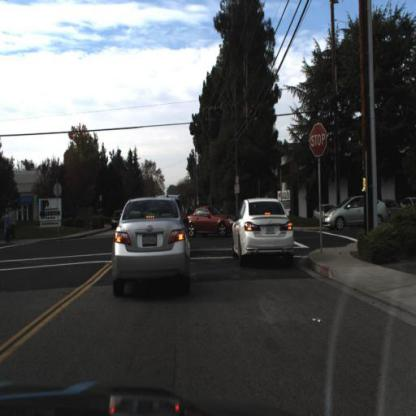car: (112, 197, 194, 297), (232, 196, 296, 272), (323, 197, 393, 232), (186, 202, 237, 238), (111, 207, 128, 231)
pedestrian: (1, 209, 13, 248), (8, 203, 19, 244)
